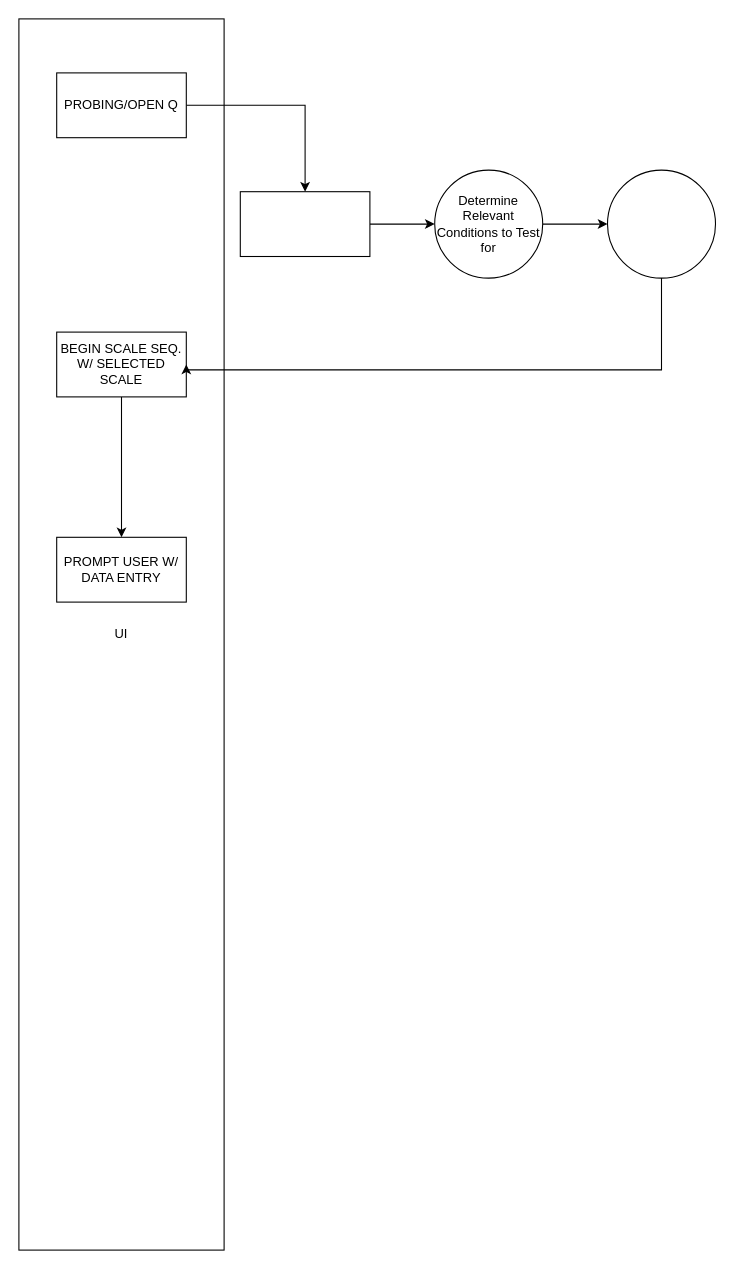
Some shapes in this 734 by 1269 pixel diagram are drawn without their labels. The centre of each missing label's shape, as x and y in pixels:
"DETERMINE APPROPRIATE SCALE" belongs at (x=304, y=223).
"Vector Search Protcol DOCS" belongs at (x=661, y=223).
